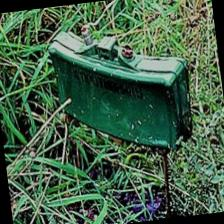MOH-50: (46, 16, 202, 178)
